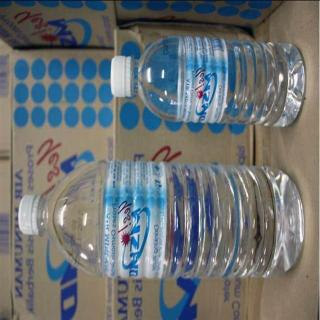Anorganik: (18, 160, 308, 286), (108, 33, 304, 133)
